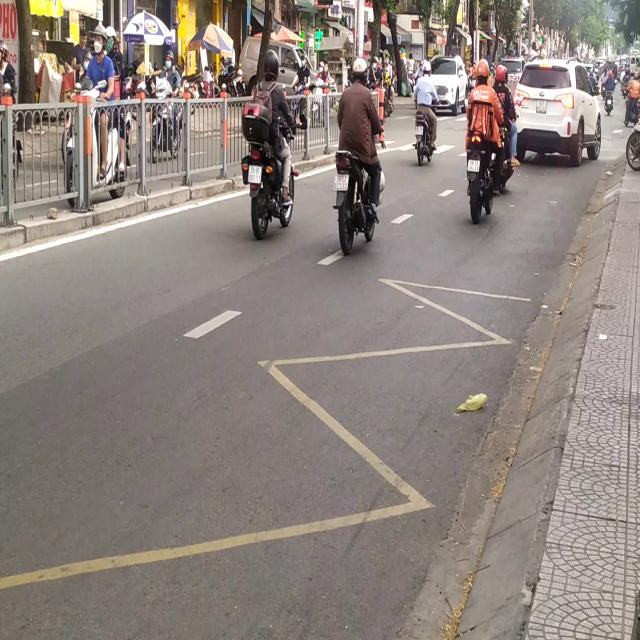bien_trang: (334, 168, 348, 193), (247, 164, 262, 184), (467, 158, 481, 174), (416, 124, 424, 138)
